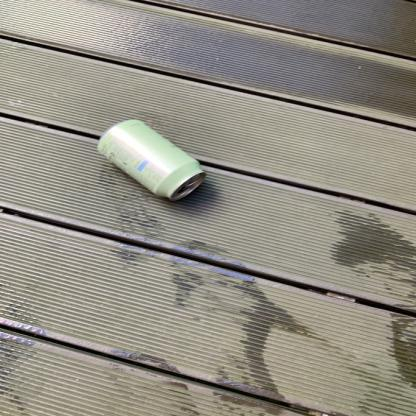trash: (95, 119, 209, 203)
